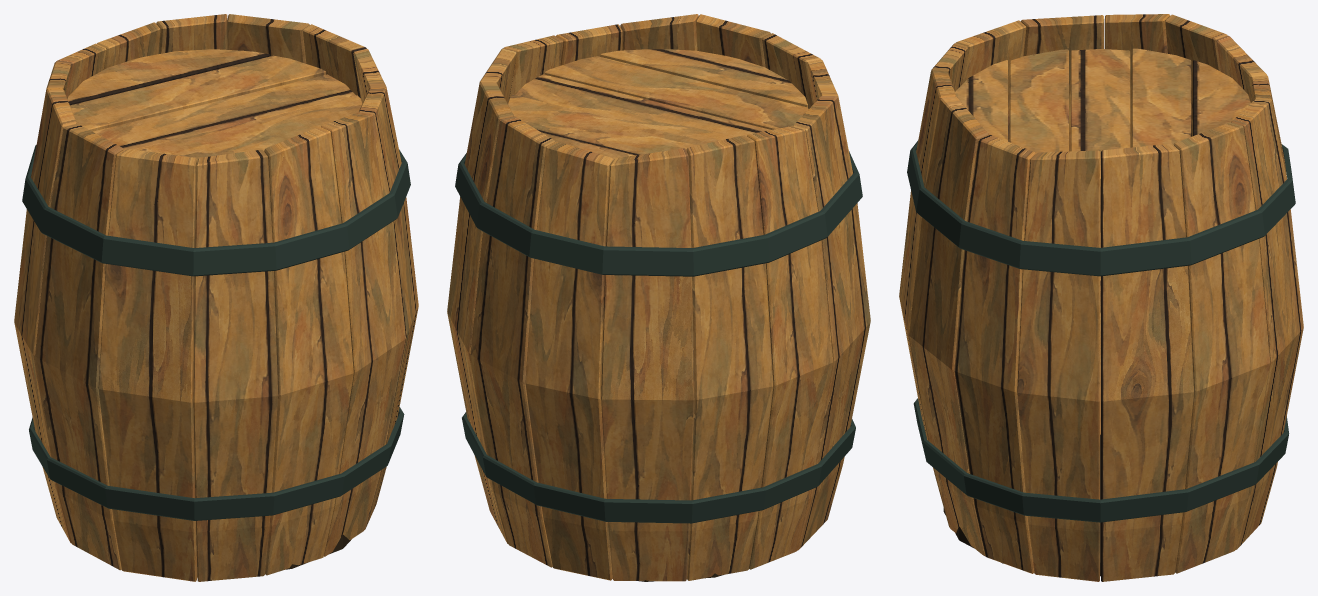
Rendered from aether_barrel_shape_ghibli.glb.
3 views of the same model, side by side, from view 1: azimuth 30°, elevation 25°; view 2: azimuth 150°, elevation 25°; view 3: azimuth 270°, elevation 25° (orthographic).
Visible parts, largest first — view 1: aether_barrel_shape_ghibli; view 2: aether_barrel_shape_ghibli; view 3: aether_barrel_shape_ghibli.
Boxes of the visible parts, <box> form: aether_barrel_shape_ghibli: <box>14,14,418,581</box>; aether_barrel_shape_ghibli: <box>447,14,870,581</box>; aether_barrel_shape_ghibli: <box>899,14,1303,581</box>.
Size of the model in its own units: 0.9316 by 1.07 by 0.9031.
Materials: 2 (1 with a texture image).
